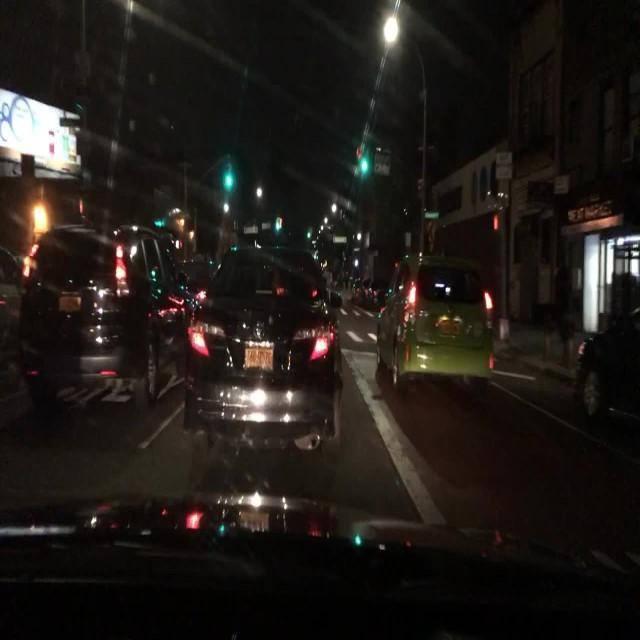normal: (26, 182, 566, 495)
